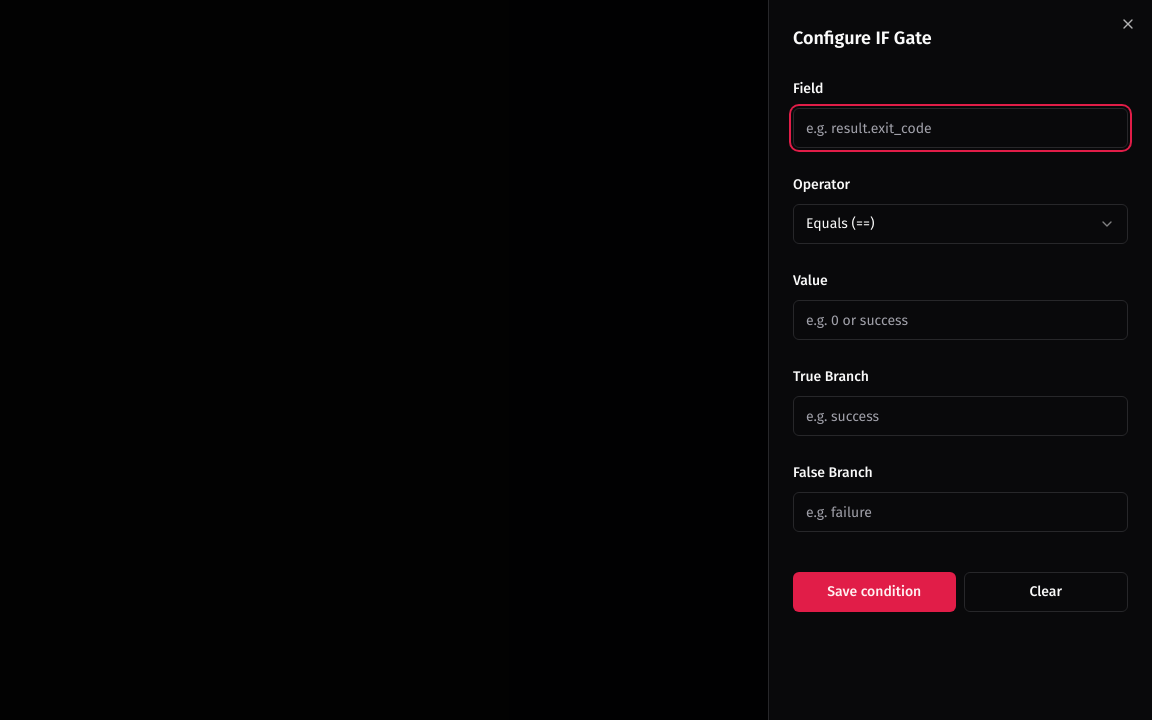
Test: IfGateConfigDrawer › Test 7: [Clear] button resets form to default
// Fill in the form
Type "result.code" into the field labelled "Field".
click(960, 128); type("result.code")  # box [793,108,1128,148]
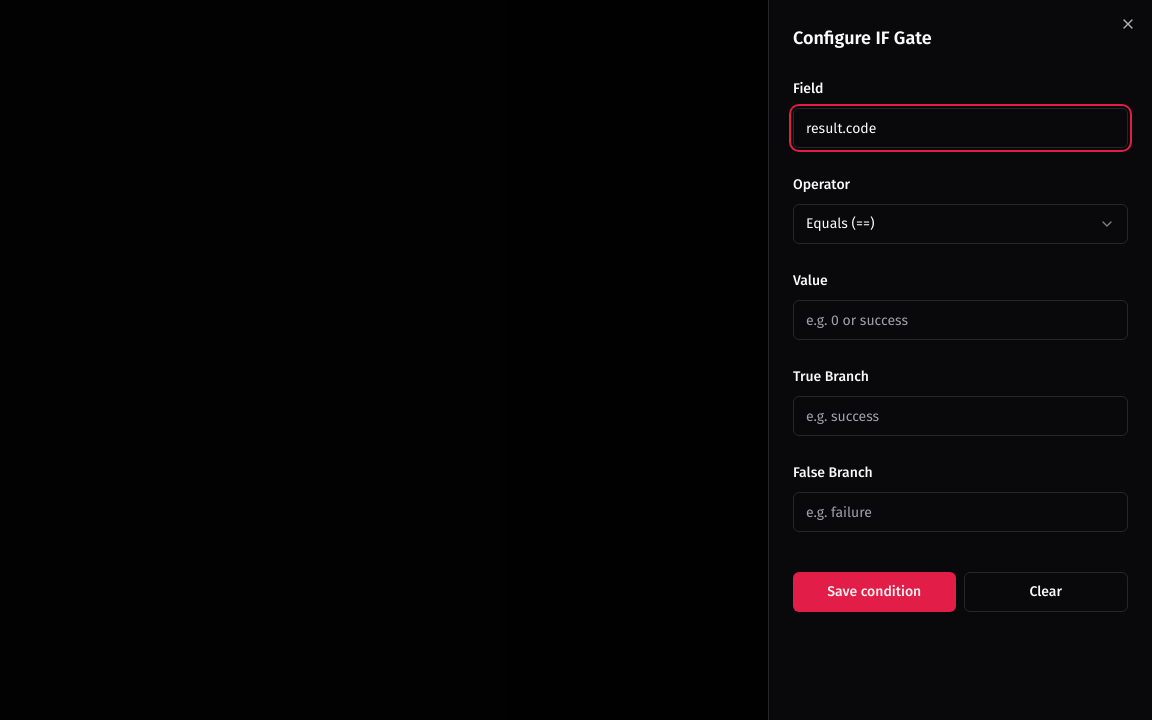
// Click Clear
Click the button "Clear".
click(1046, 592)  # box [964,572,1128,612]
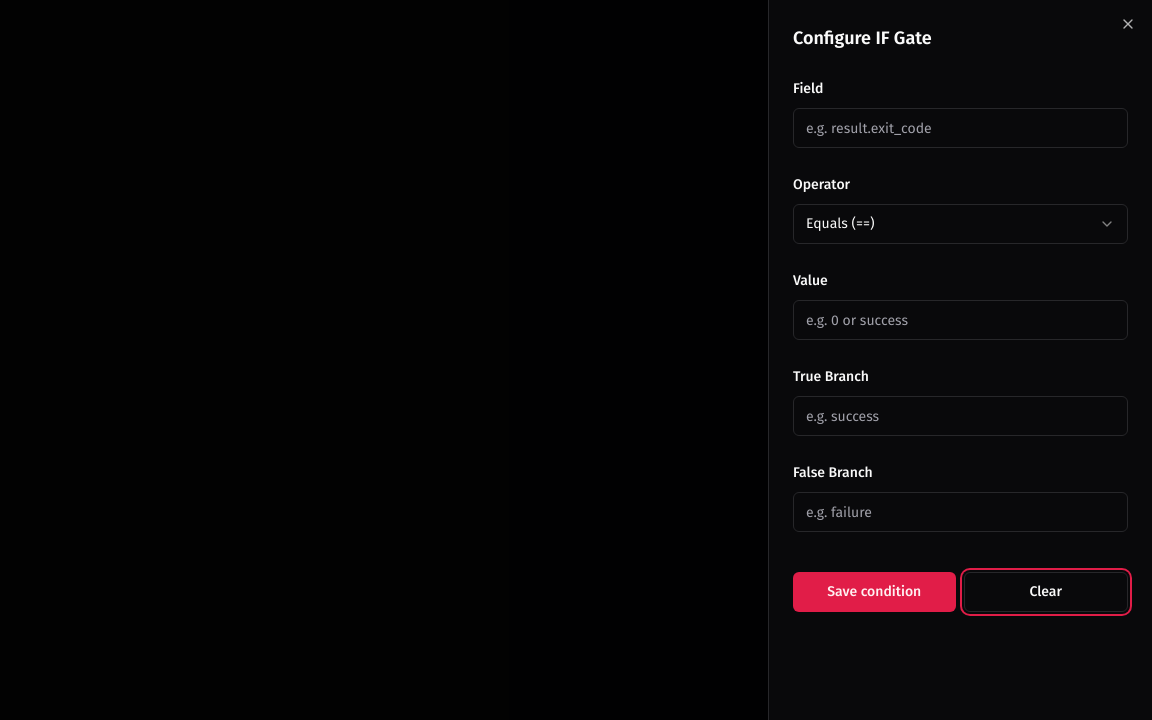
Now the field labelled "Field" is empty, box [793,108,1128,148]
